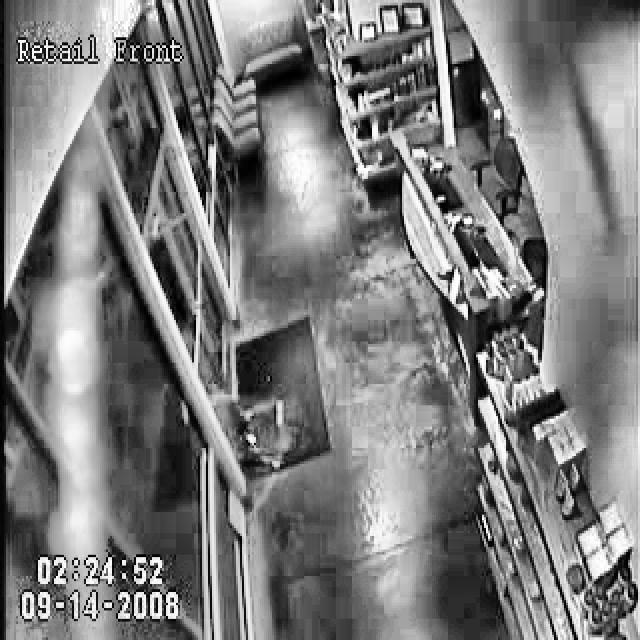burglary: (182, 347, 311, 499)
